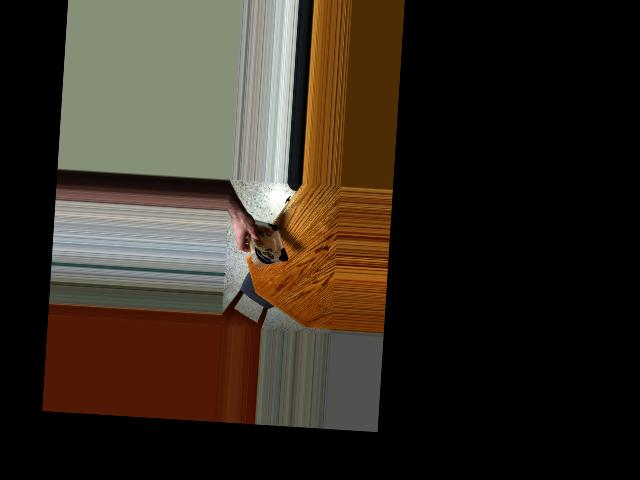cheese: (248, 214, 287, 265)
